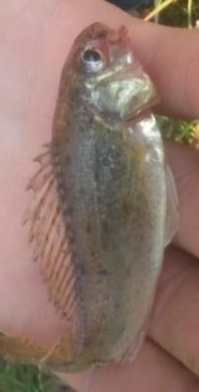Gymnocephalus cernuus: (20, 20, 179, 372)
